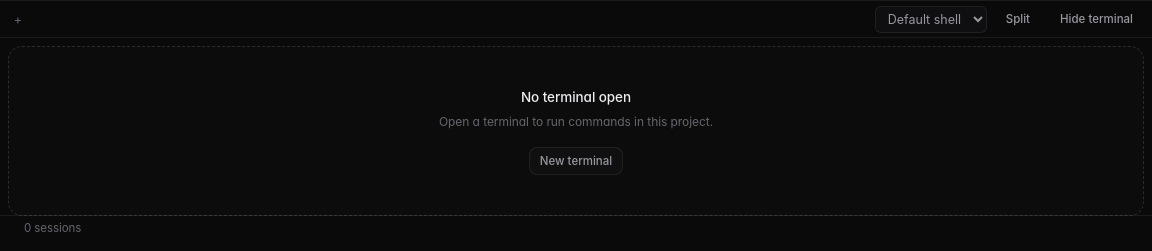
Test case: TerminalPanel › splits the panel into two panes with a second terminal
The image size is (1152, 251).
What coordinates should you click on to do the following:
click the button named "New terminal"
I would click on:
 (18, 19)
Its box is [8,9,28,29].
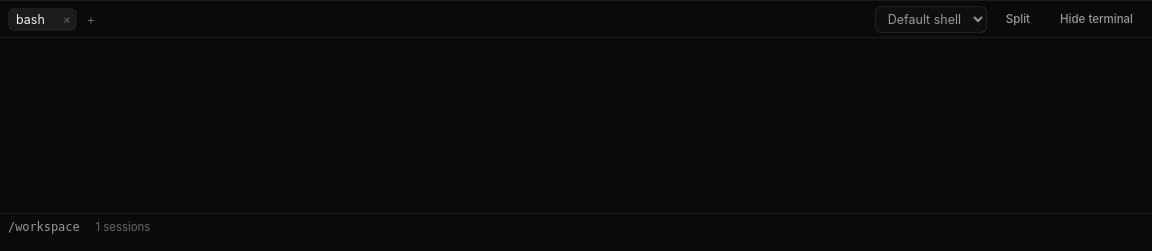
Expected: the number of tabs is 1, [8,8,53,30]
What coordinates should you click on to do the following:
click the button named "New terminal"
I would click on:
 (91, 19)
Its box is [81,9,101,29].
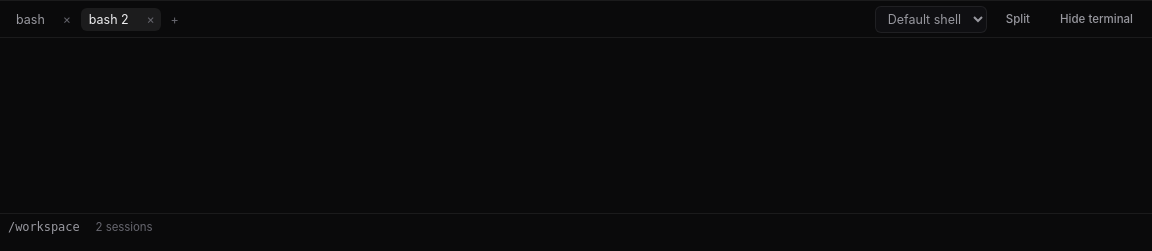
Expected: the number of tabs is 2, [8,8,53,30]; [81,8,137,30]
What coordinates should you click on to do the following:
click the button "Split"
I would click on:
 (1018, 19)
Its box is [995,5,1041,33].
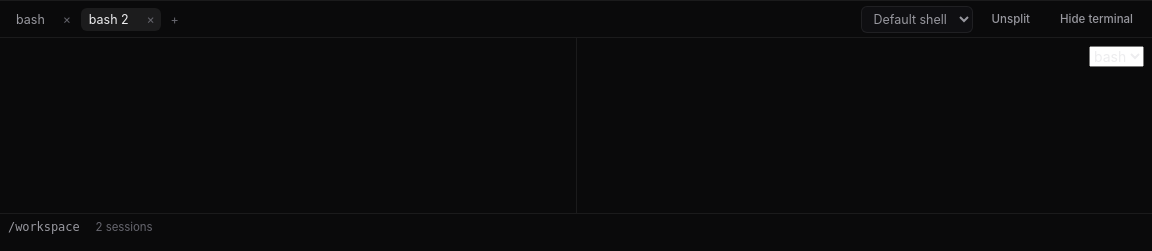
Expected: the dropdown named "Second terminal" is shown, [1089,46,1144,67]
Expected: the button "Unsplit" is shown, [980,5,1041,33]
